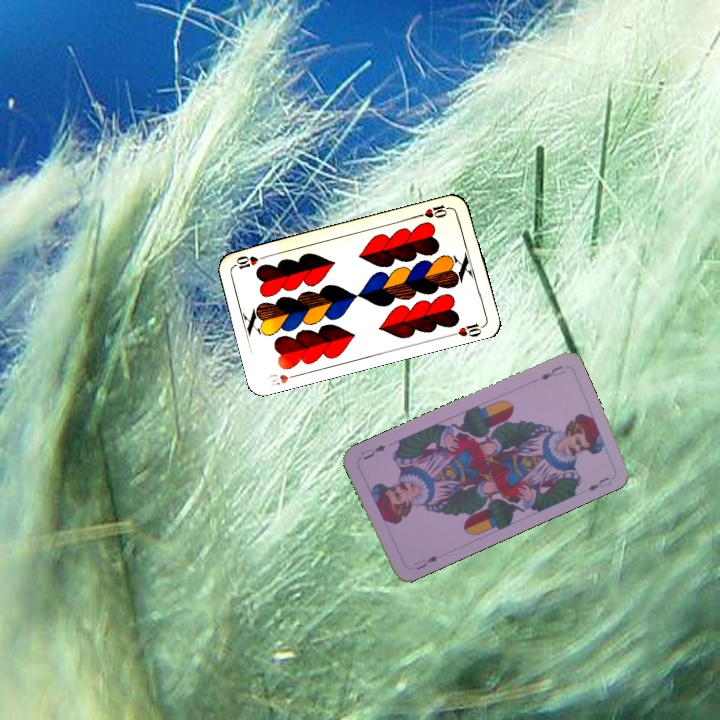EU: (536, 361, 568, 383), (410, 551, 441, 573)
H10: (414, 200, 454, 221), (262, 369, 303, 389)
